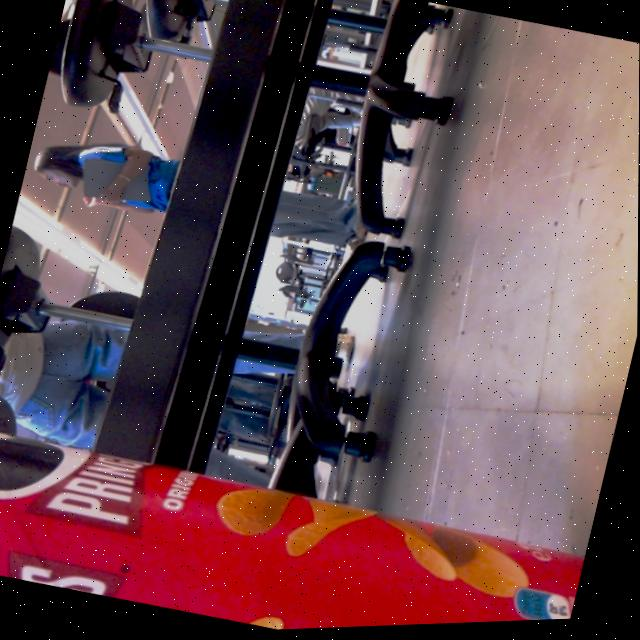redpringles: (0, 381, 595, 640)
